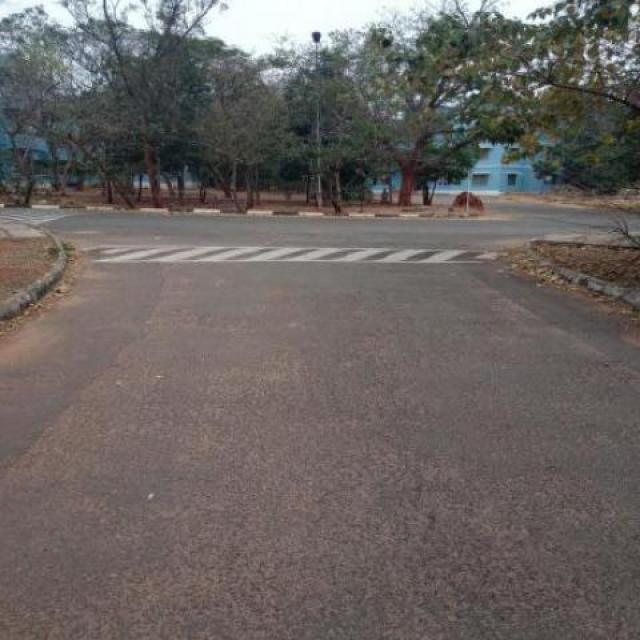Speed Bump: (74, 244, 522, 267)
